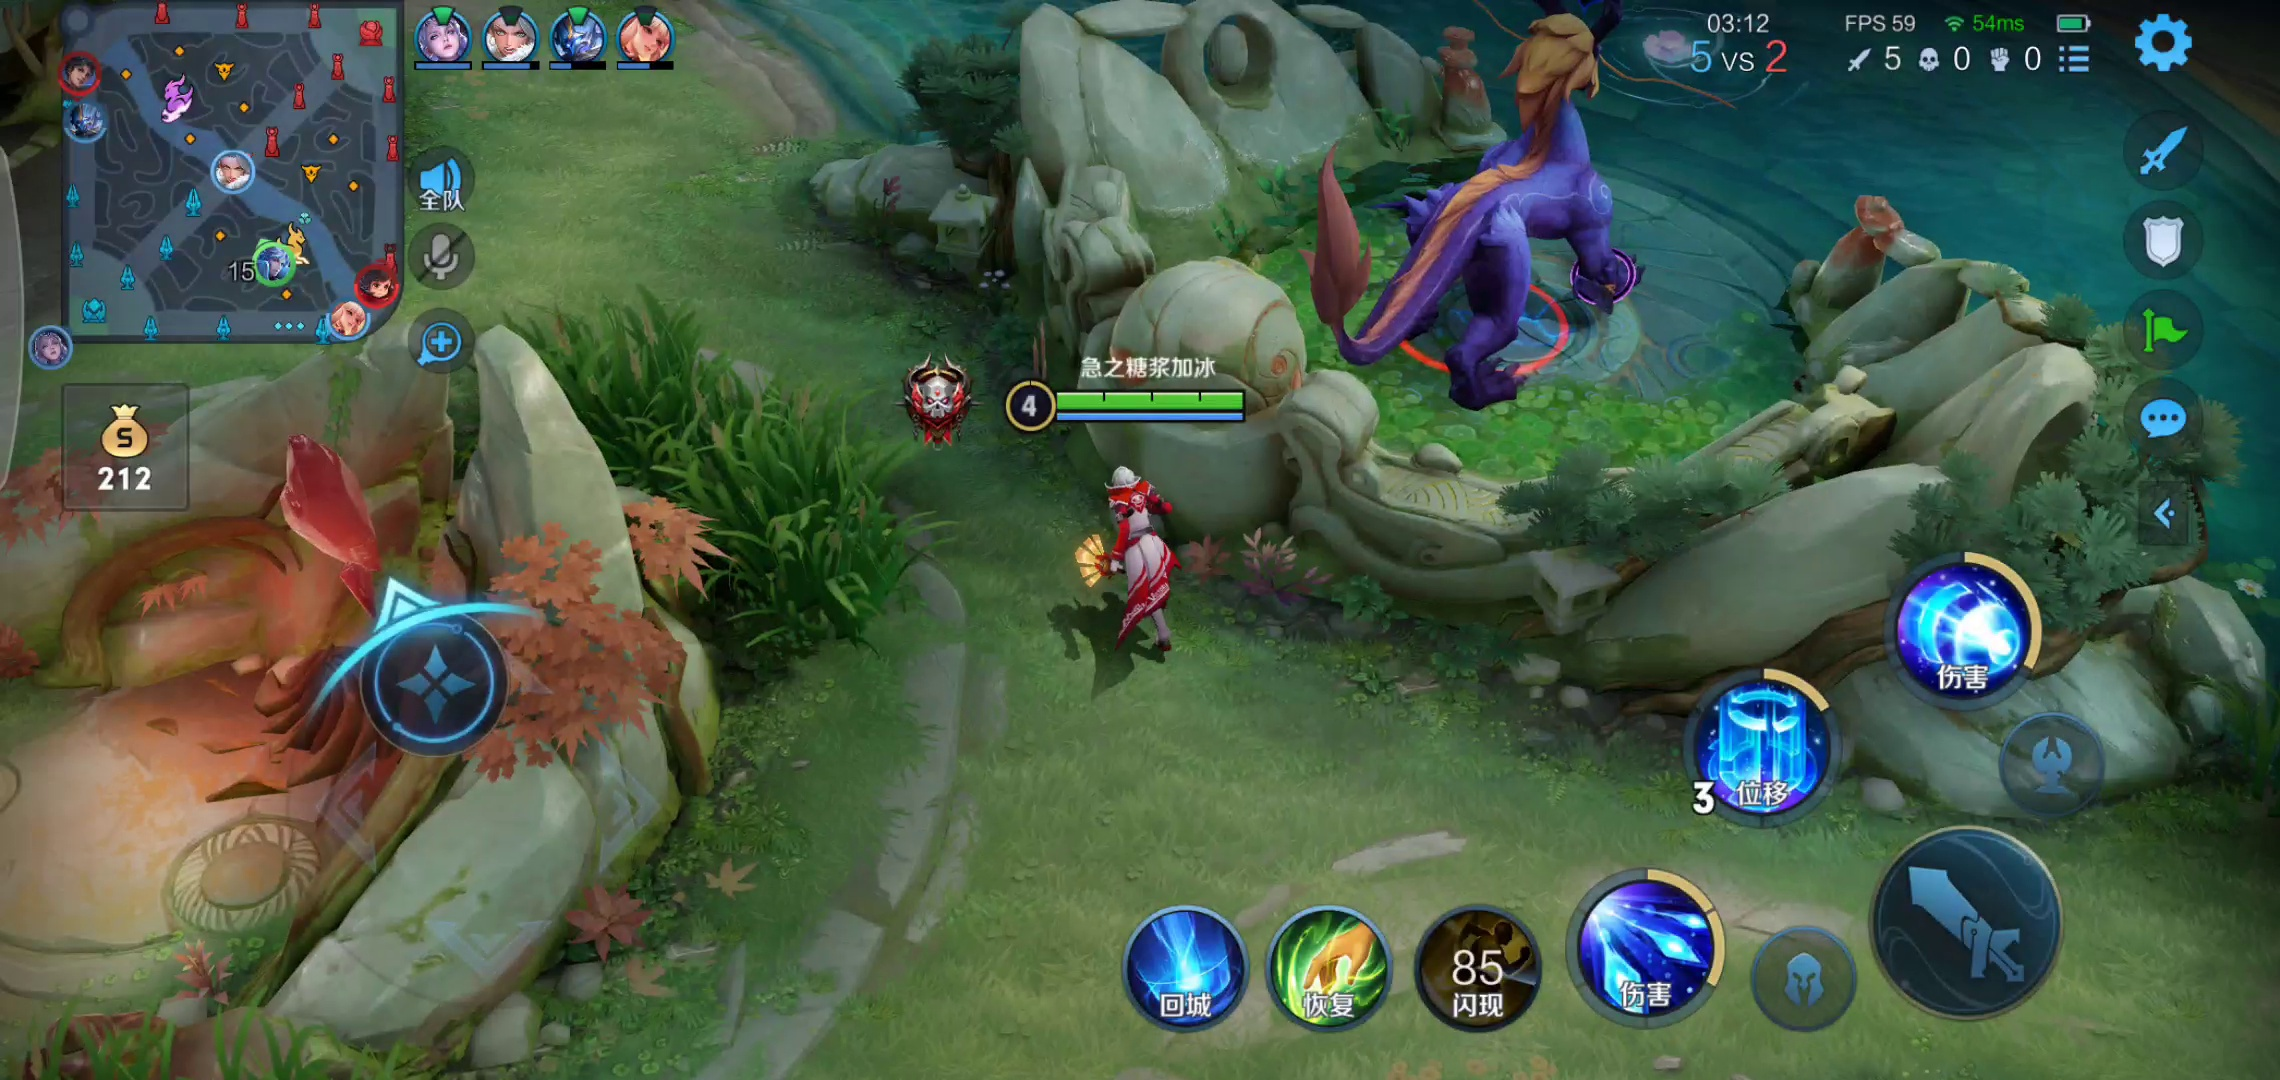dragon: (1304, 7, 1647, 404)
grass: (465, 301, 891, 677)
hero: (1043, 461, 1219, 664)
